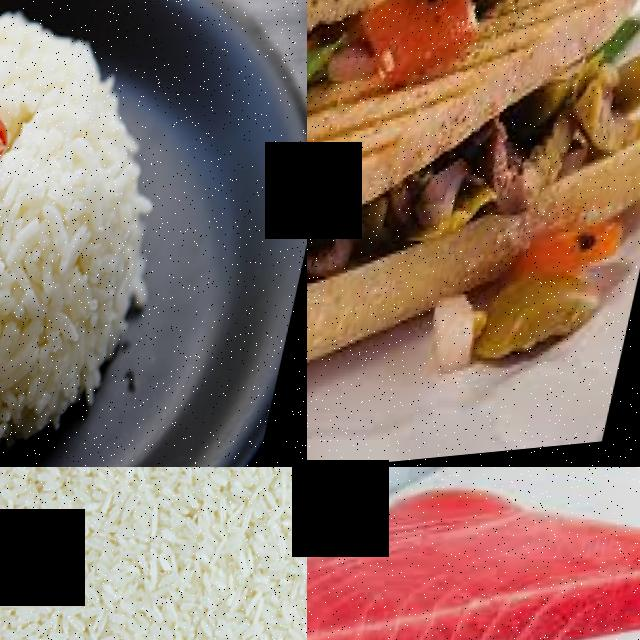tuna: (307, 467, 640, 640)
white rice: (0, 467, 307, 640), (0, 190, 156, 467), (0, 67, 153, 272)
